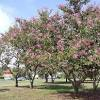ylang-ylang: (60, 19, 90, 55), (69, 75, 92, 97), (3, 68, 19, 84), (19, 76, 31, 93), (4, 27, 12, 35), (20, 27, 25, 35)
